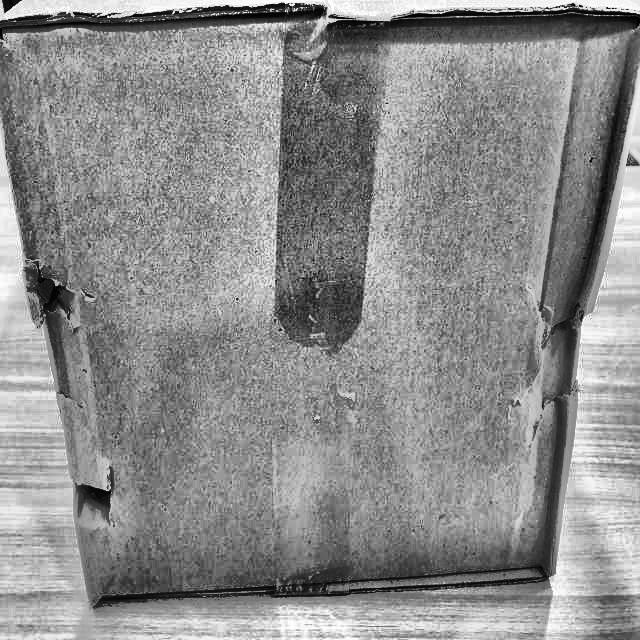box: (0, 0, 639, 626)
hole: (529, 288, 599, 432), (70, 459, 116, 539), (31, 259, 74, 333)
